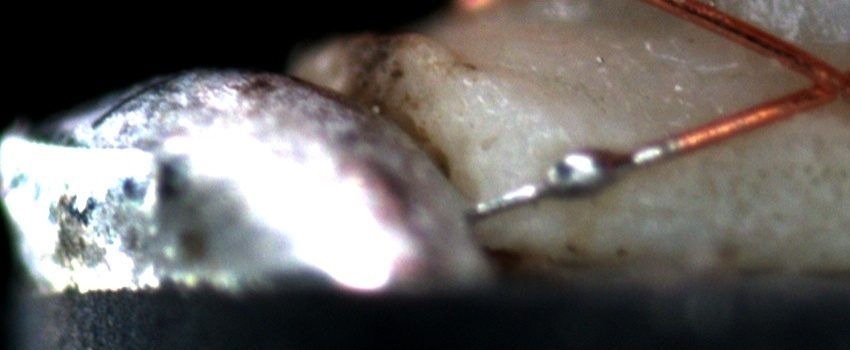CL: (773, 49, 848, 117)
TB: (542, 144, 626, 200)
TS: (471, 142, 674, 219)
TTCW: (463, 115, 737, 219)
